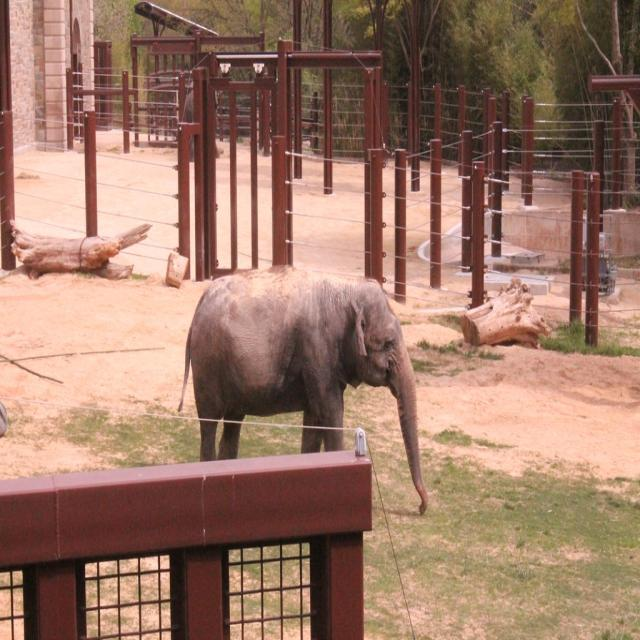Elephant: (178, 264, 428, 514)
